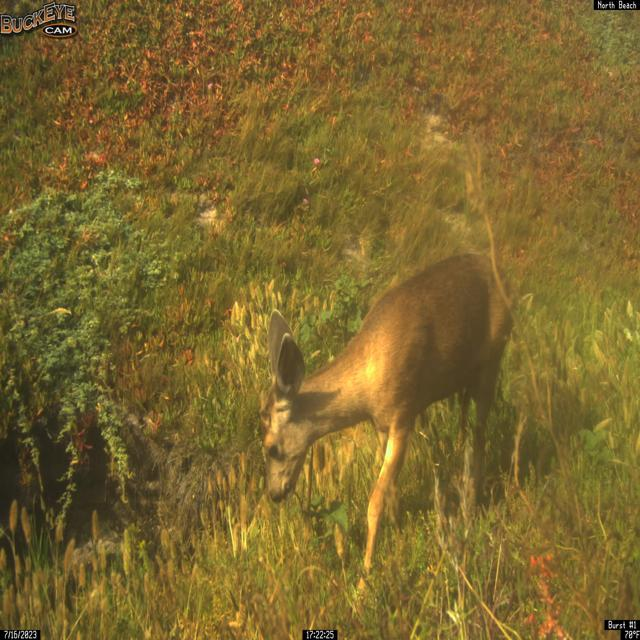deer: (258, 252, 517, 598)
